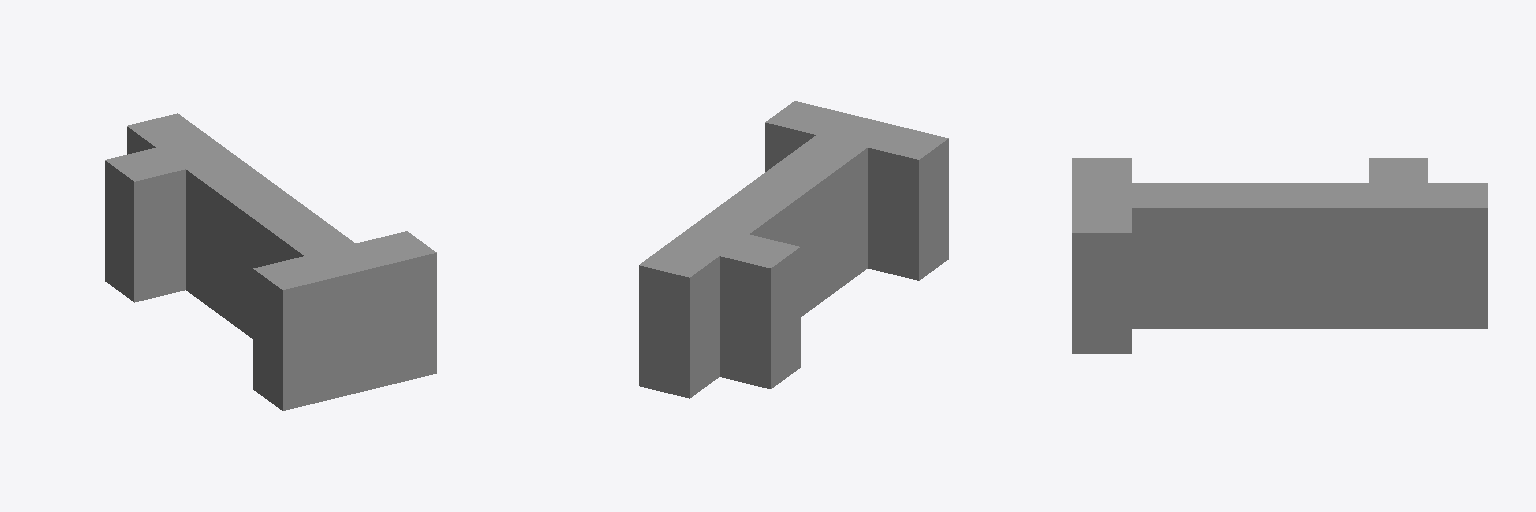
3 renders of one model, left to right at view 1: azimuth 30°, elevation 25°; view 2: azimuth 150°, elevation 25°; view 3: azimuth 270°, elevation 25°, orthographic.
Visible parts, largest first — view 1: 1_CUABC.028; view 2: 1_CUABC.028; view 3: 1_CUABC.028.
Boxes of the visible parts, x1=… form: 1_CUABC.028: x1=105, y1=113, x2=436, y2=410; 1_CUABC.028: x1=639, y1=101, x2=948, y2=398; 1_CUABC.028: x1=1072, y1=158, x2=1487, y2=353.
Bounding box in the file's own units: 0.3333 × 0.25 × 0.7778.